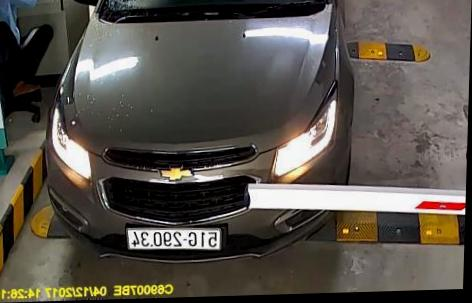License_Plate: (122, 221, 225, 255)
